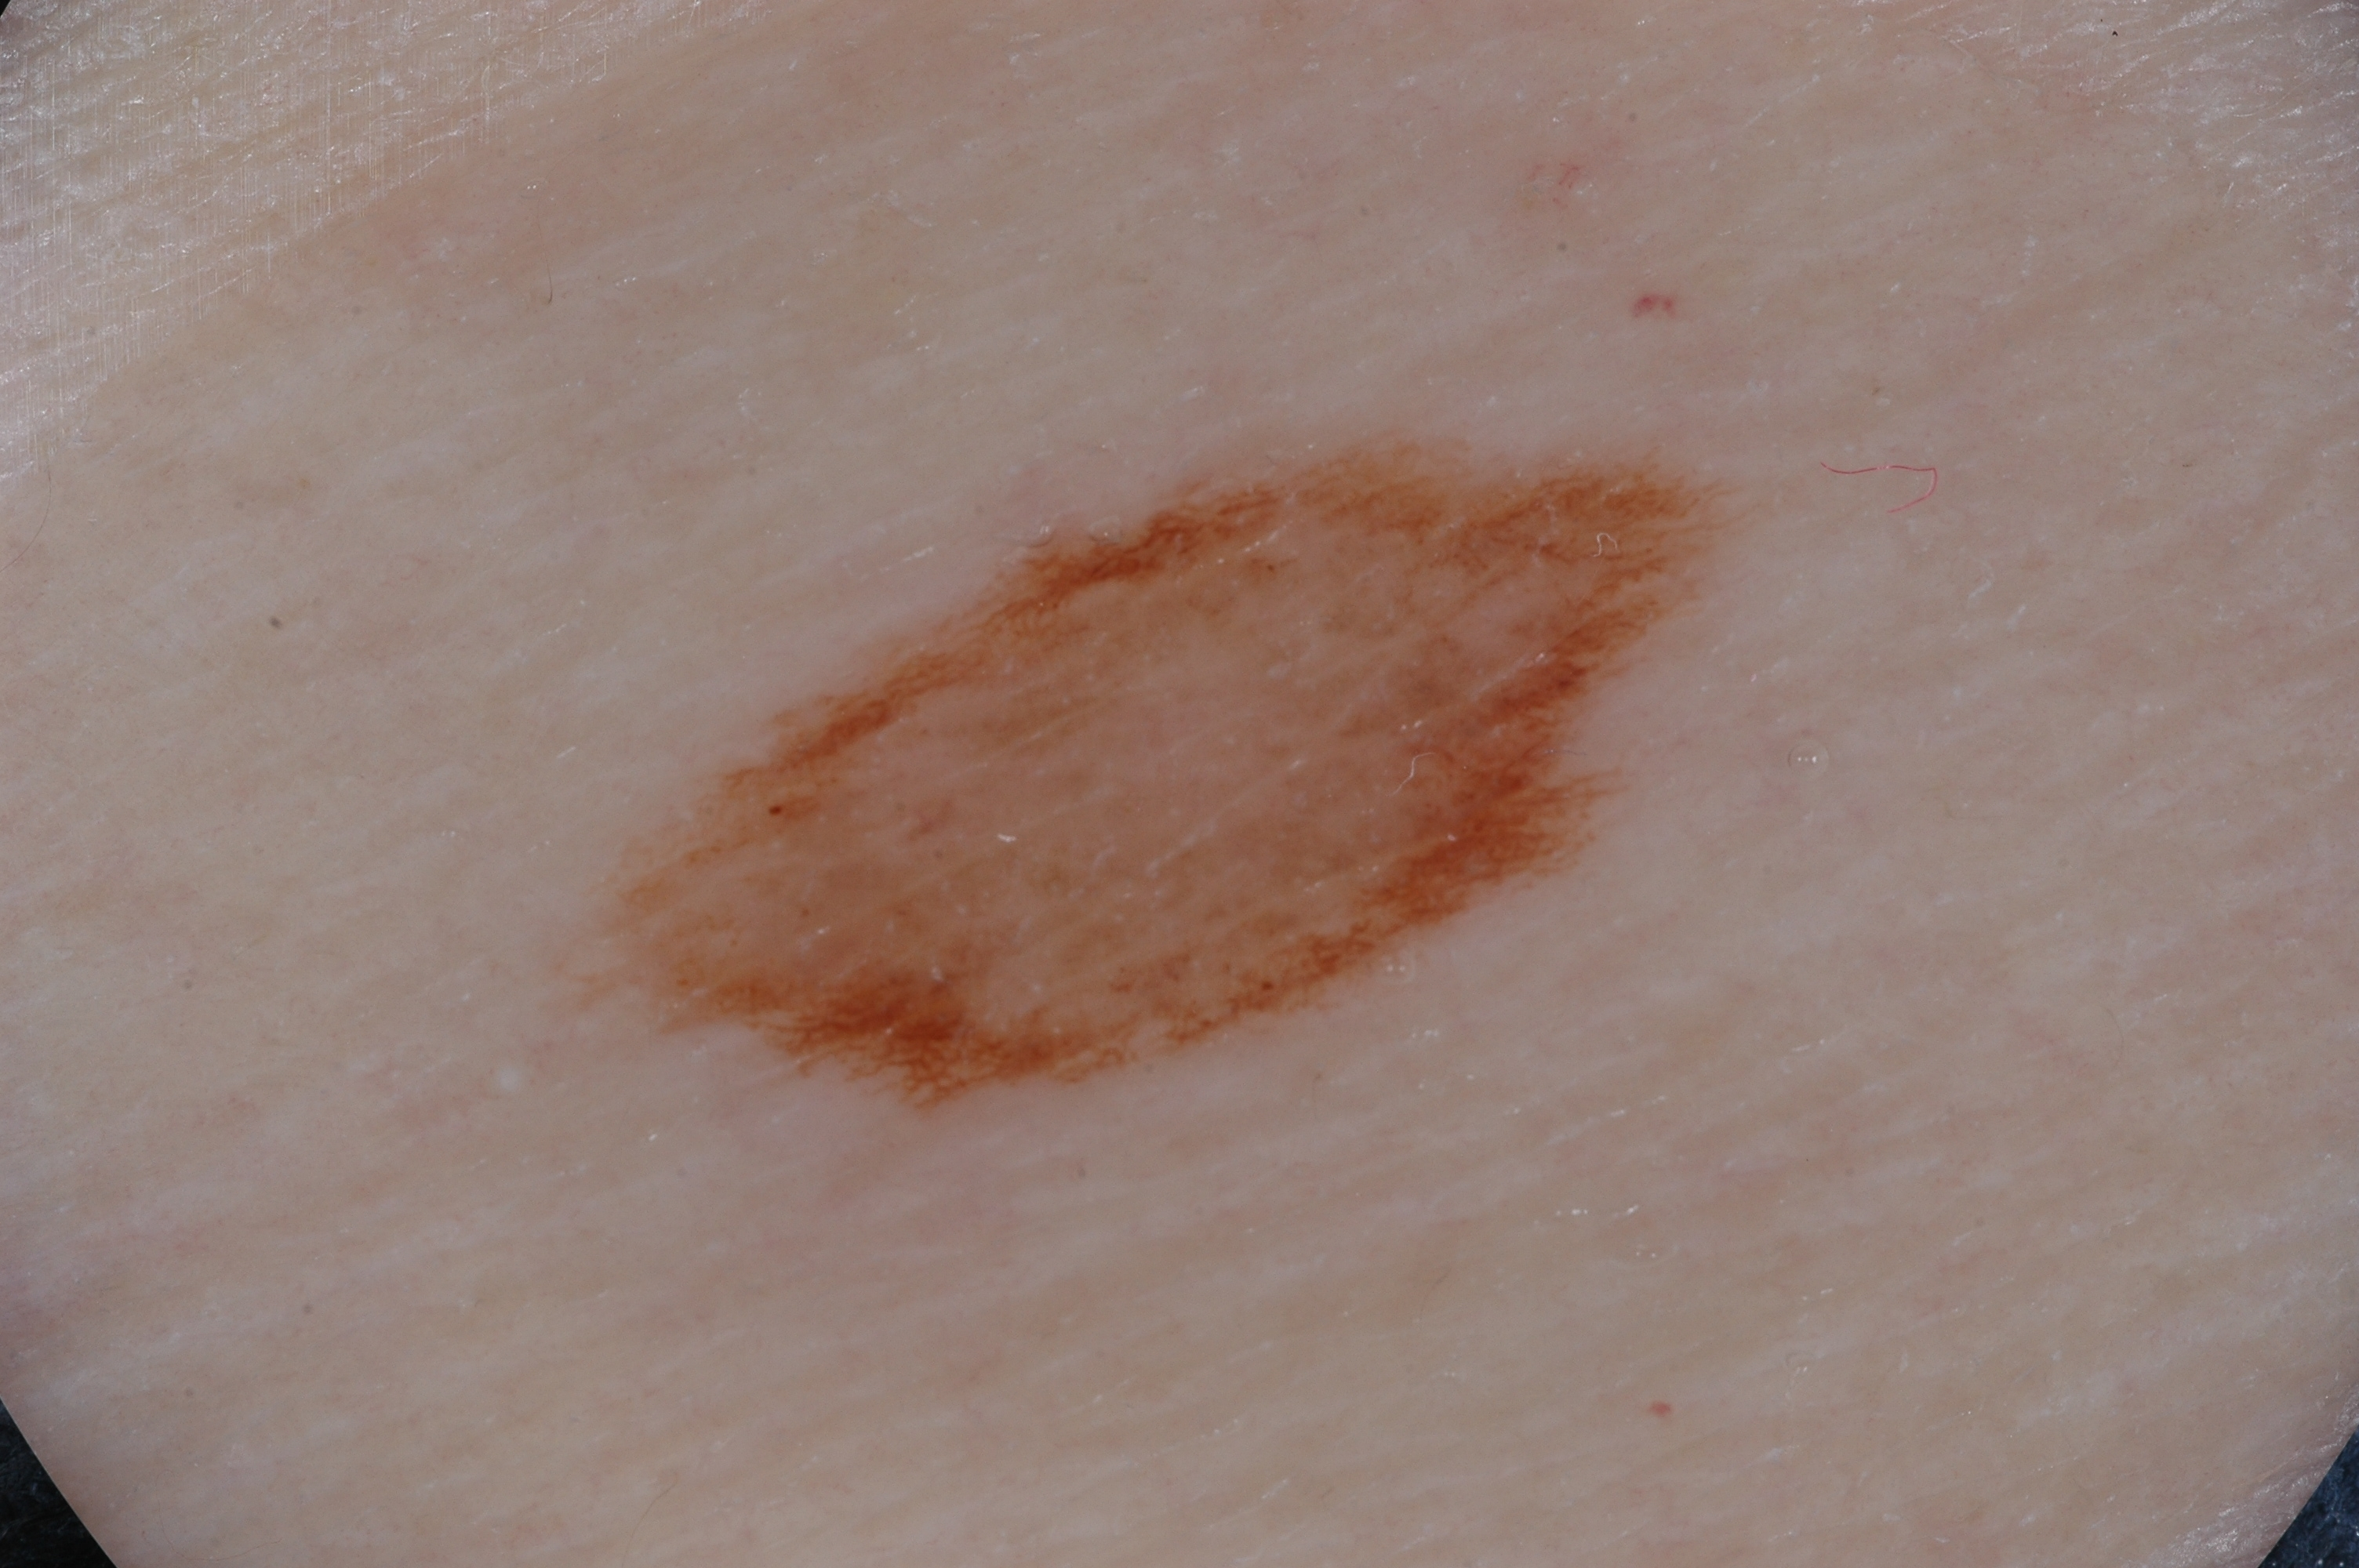Detected Lesion: (586, 406, 1718, 1125)
